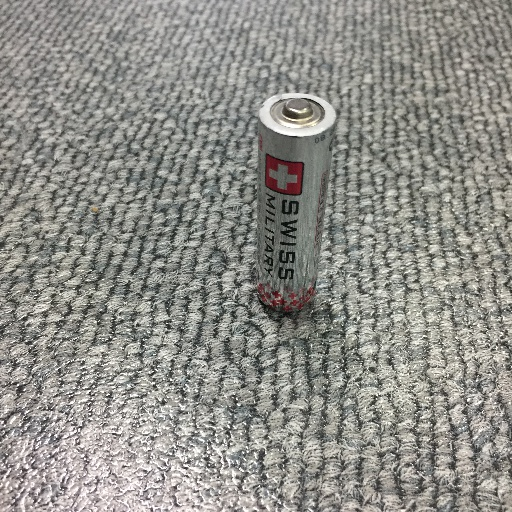Battery_0: (250, 91, 342, 322)
